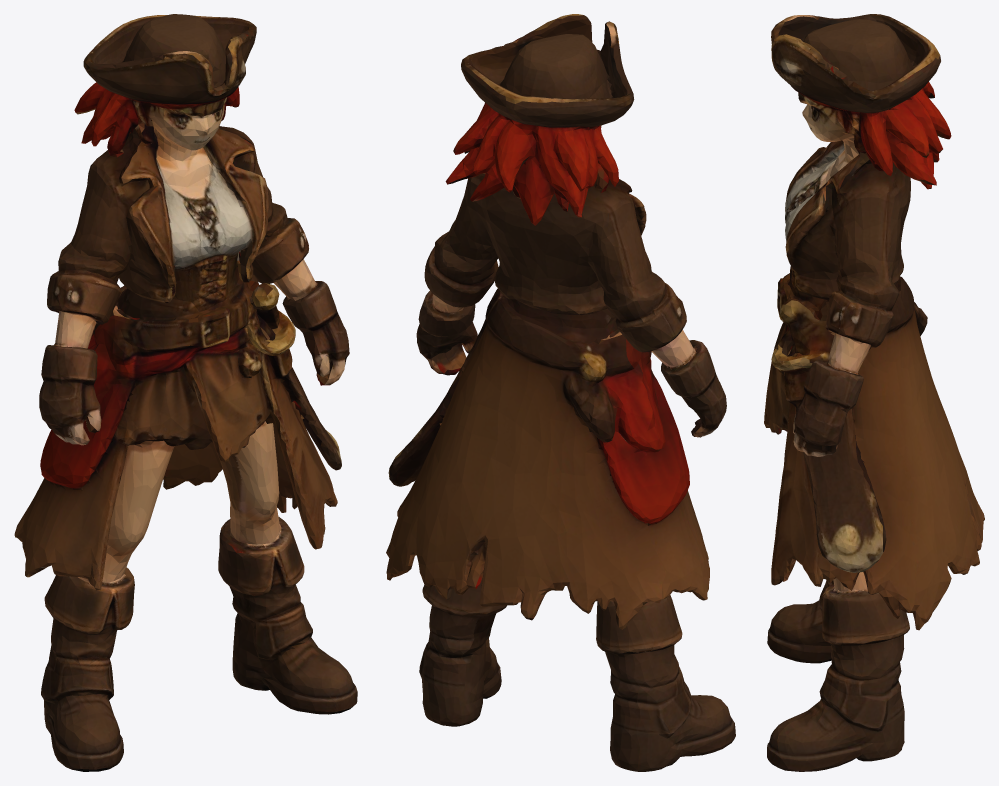
File: pirate_female1.glb
3 views of the same model, side by side, from view 1: azimuth 30°, elevation 25°; view 2: azimuth 150°, elevation 25°; view 3: azimuth 270°, elevation 25° (orthographic).
Parts seen in each view (by area): view 1: pirateFemale1.obj; view 2: pirateFemale1.obj; view 3: pirateFemale1.obj.
Part boxes in pixels (left/top/right/bottom): pirateFemale1.obj: left=14, top=14, right=357, bottom=771; pirateFemale1.obj: left=386, top=14, right=735, bottom=771; pirateFemale1.obj: left=764, top=14, right=984, bottom=771.
Size of the model in its own units: 0.9241 by 1.96 by 0.5789.
1 material, 1 textured.
